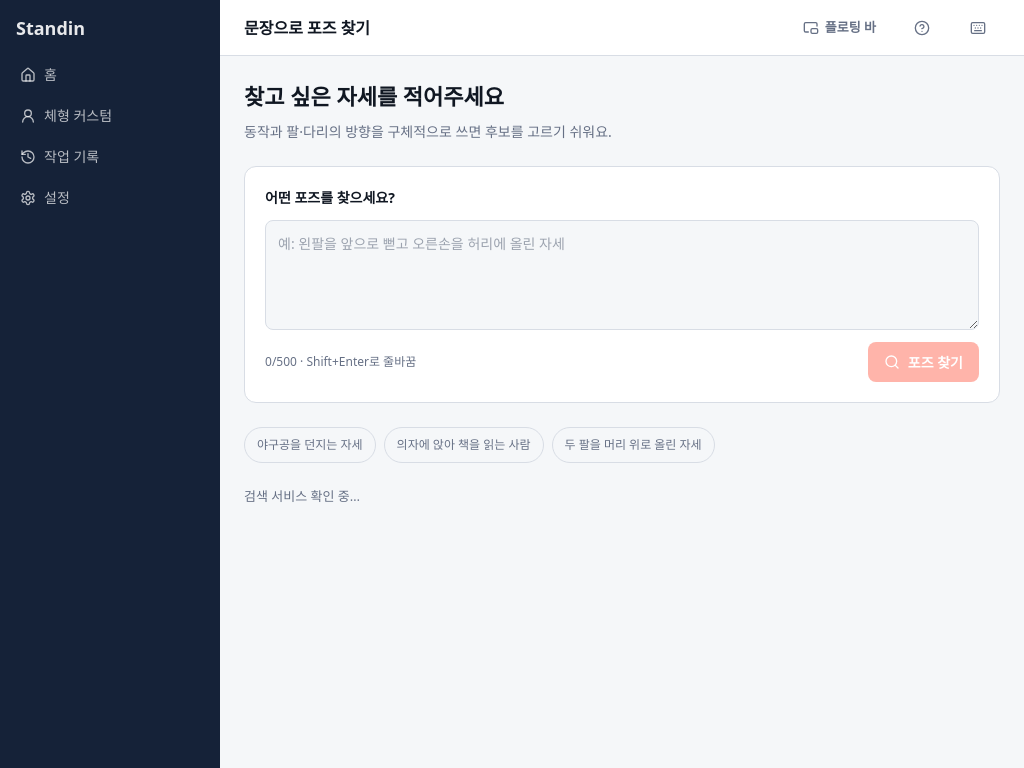
Test: empty input stays disabled; examples fill text without making a request
This screenshot has width=1024, height=768.
Expected: the text box is shown, [265,220,979,330]
Expected: the button "포즈 찾기" is disabled, [868,342,979,382]
Click the button "야구공을 던지는 자세" at (310, 445), box [244,427,376,463]
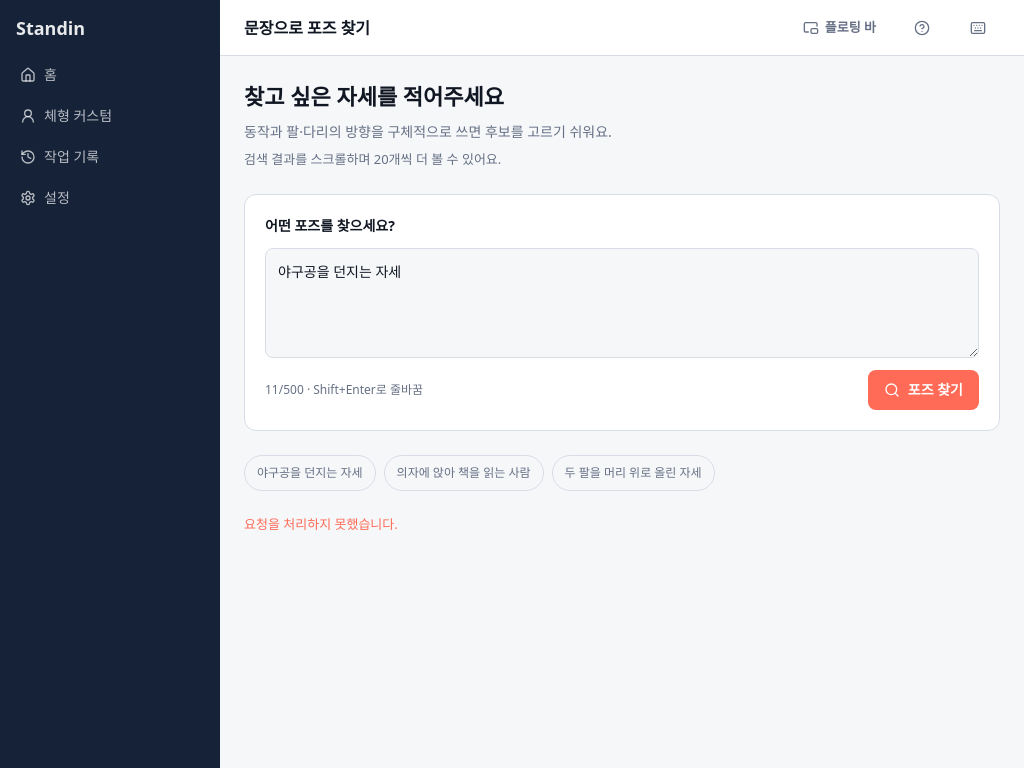
Now the button "포즈 찾기" is enabled, box [868,370,979,410]
